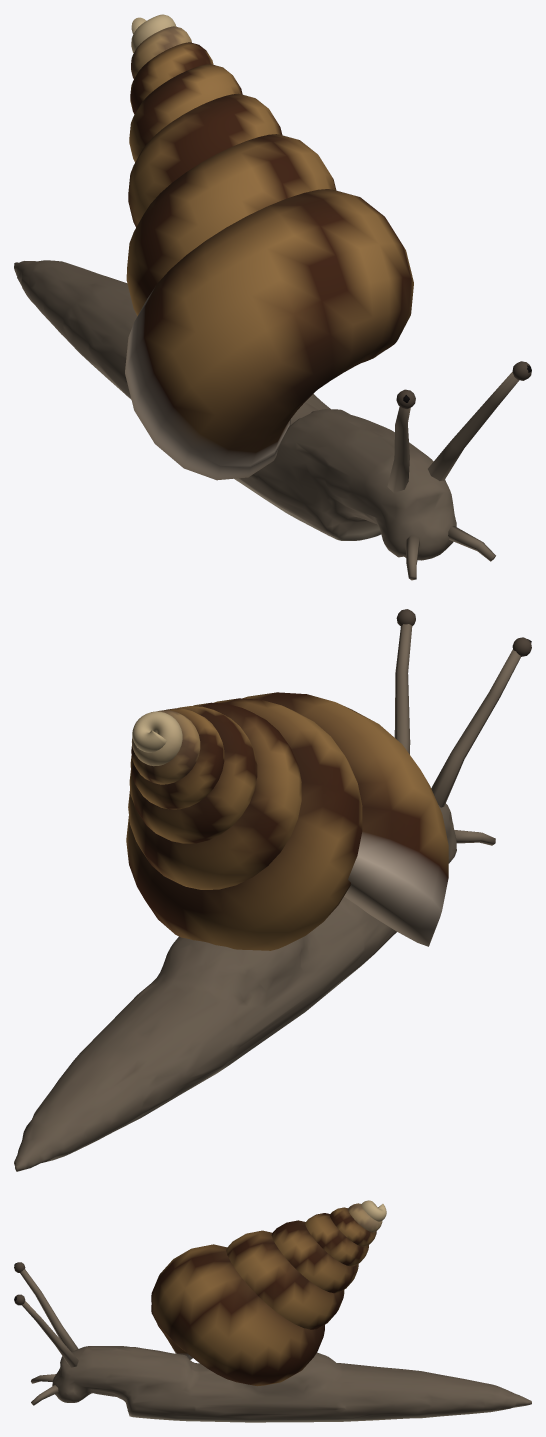
File: GiantAfricanSnail.fbx
The picture shows the model from 3 angles, top to bottom: view 1: azimuth 30°, elevation 25°; view 2: azimuth 150°, elevation 25°; view 3: azimuth 270°, elevation 25°; orthographic projection. The views are drawn at different scales.
Parts seen in each view (by area): view 1: GiantAfricanSnail; view 2: GiantAfricanSnail; view 3: GiantAfricanSnail.
Part boxes in pixels (box(x1,y1,x2,y2)): GiantAfricanSnail: box(14, 14, 531, 580); GiantAfricanSnail: box(14, 609, 531, 1171); GiantAfricanSnail: box(14, 1200, 531, 1422).
Size of the model in its own units: 0.4381 by 0.5699 by 1.27.
